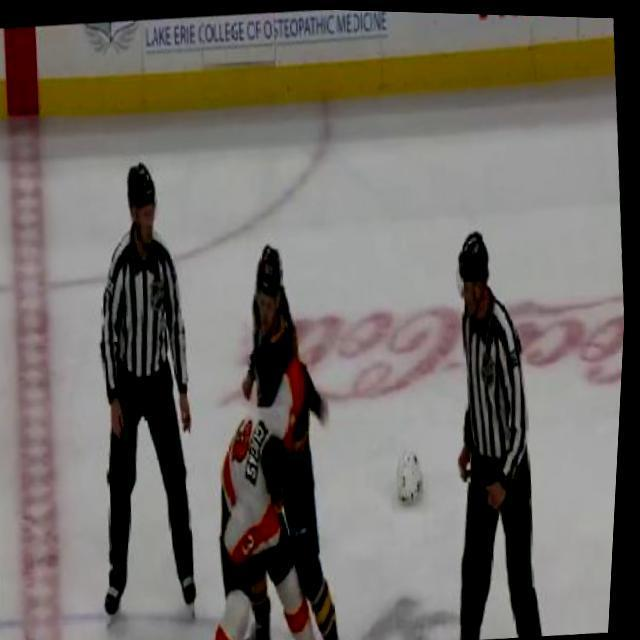fight: (192, 233, 361, 640)
